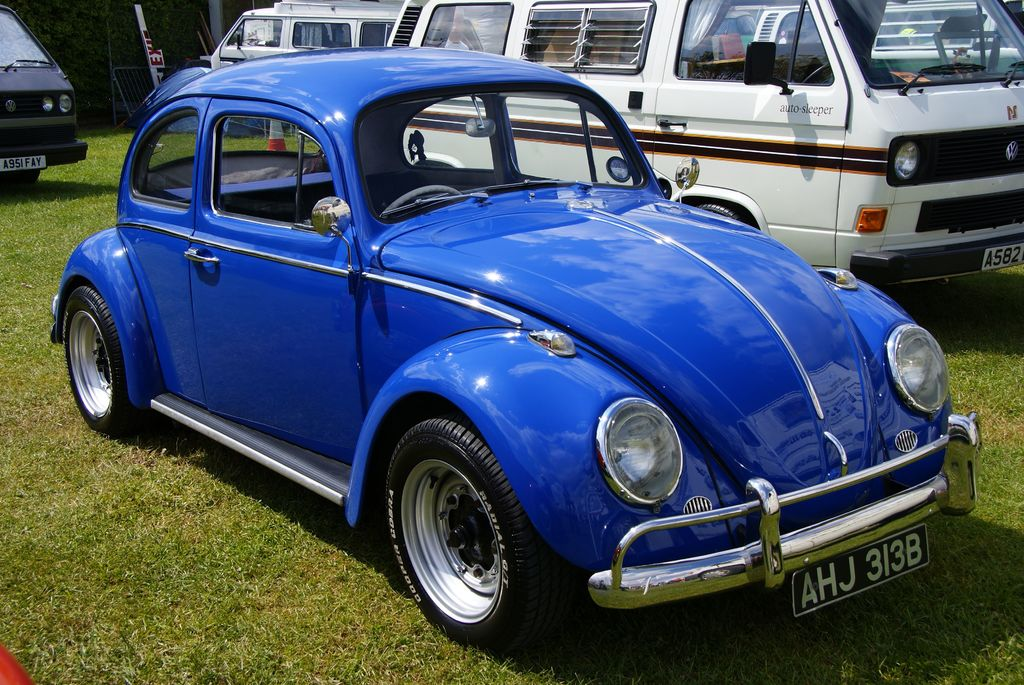Car: (47, 40, 989, 651), (388, 0, 1023, 305), (192, 0, 455, 106), (0, 0, 89, 199)
